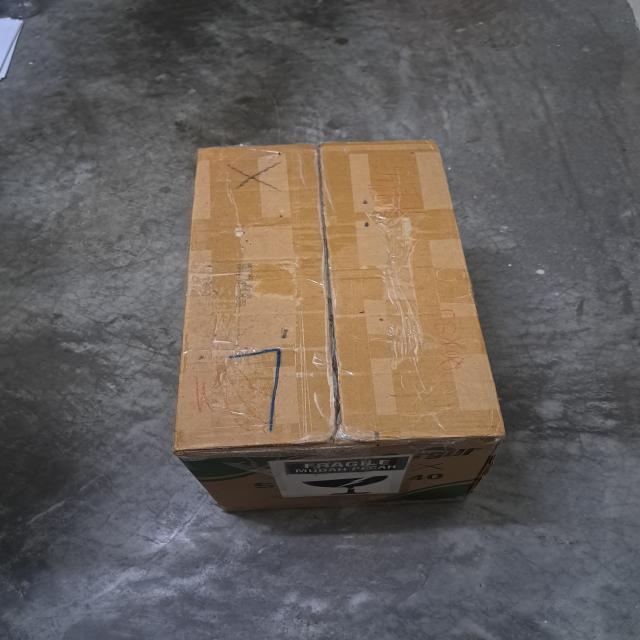cardboard: (174, 138, 508, 506)
